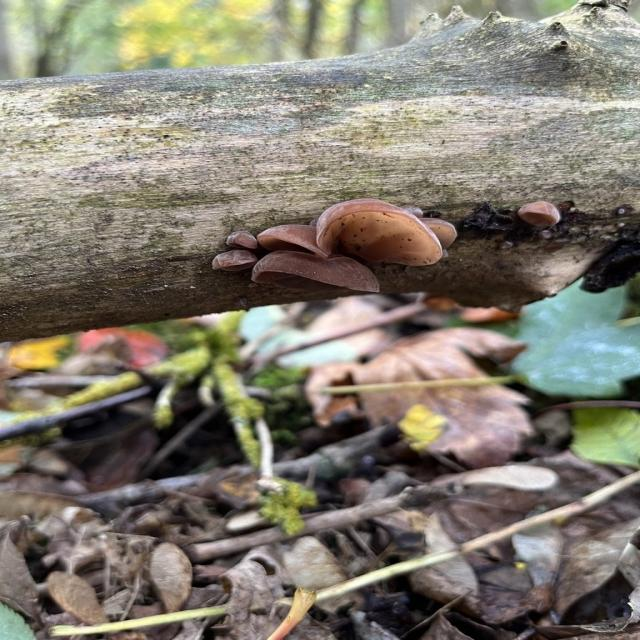Fase Muda: (312, 198, 445, 270), (257, 222, 337, 262), (419, 212, 467, 252)
Matang: (243, 247, 386, 316)
primordia: (516, 197, 566, 234), (220, 223, 261, 256), (206, 248, 248, 274)
